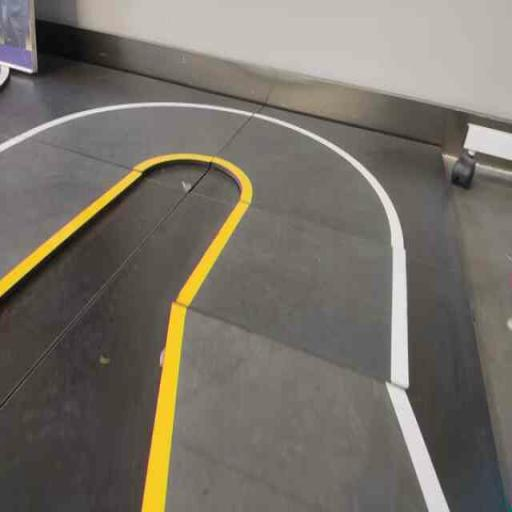crossleft: (134, 294, 457, 511)
